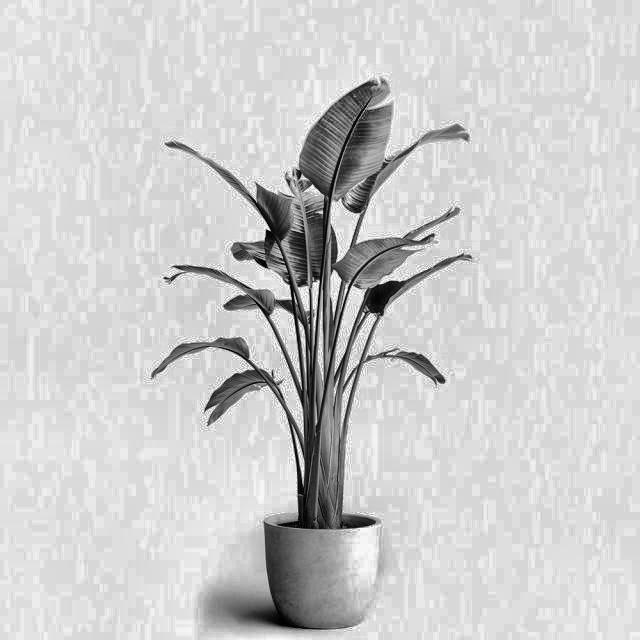plants: (125, 76, 478, 638)
